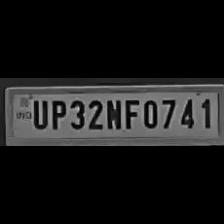0: (140, 96, 158, 128)
1: (196, 95, 214, 131)
2: (85, 96, 103, 130)
3: (66, 96, 84, 130)
4: (176, 96, 196, 130)
7: (158, 96, 176, 130)
F: (122, 96, 140, 130)
N: (103, 96, 121, 130)
P: (46, 96, 66, 130)
U: (28, 96, 48, 130)
